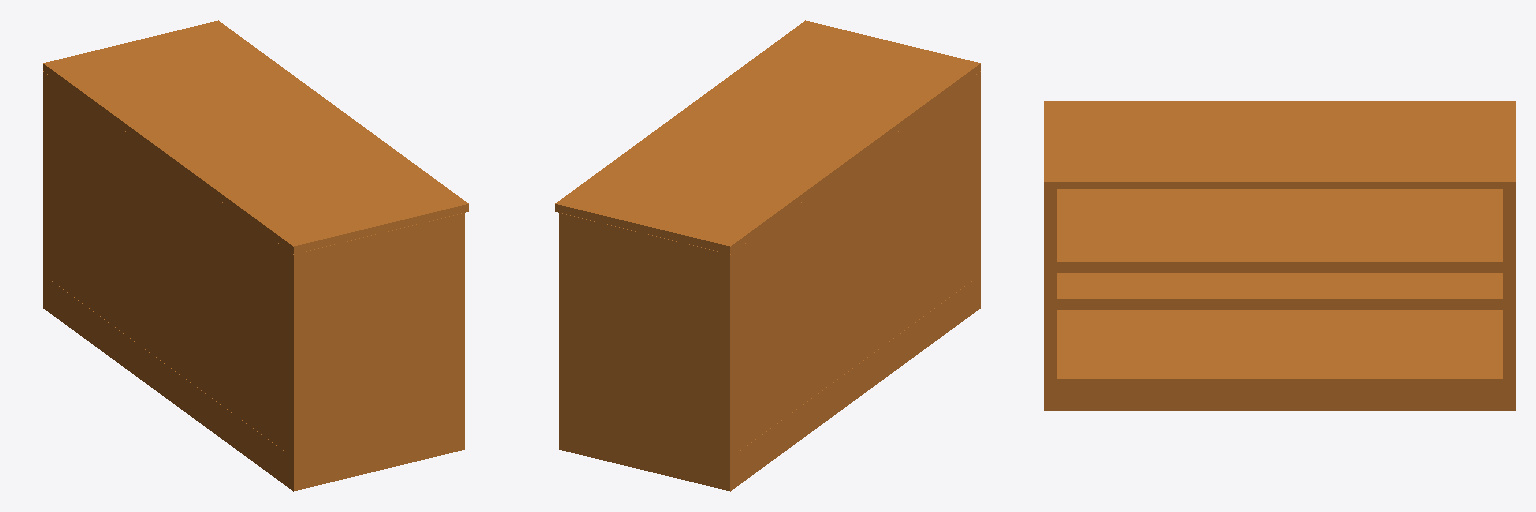
URDF robot description (room610-audio_shelf-1-robot):
<?xml version="1.0"?>
<robot name="room610-audio_shelf-1-robot"
       xmlns:xi="http://www.w3.org/2001/XInclude"
       >
  <gazebo>
    <static>false</static>
  </gazebo>
  <link name="ROOT_link">
    <visual>
      <origin xyz="0 0 0" rpy="0 -0 0"/>
      <geometry>
        <mesh filename="model://room610-audio_shelf-1/meshes/ROOT_link_mesh.dae" scale="1 1 1" />
      </geometry>
    </visual>
    <collision>
      <origin xyz="0 0 0" rpy="0 -0 0"/>
      <geometry>
        <mesh filename="model://room610-audio_shelf-1/meshes/ROOT_link_mesh.dae" scale="1 1 1" />
      </geometry>
    </collision>
    <inertial>
      <mass value="0.001" />
      <origin xyz="0 0 0" rpy="0 -0 0"/>
      <inertia ixx="1e-03" ixy="0" ixz="0" iyy="1e-03" iyz="0" izz="1e-03"/>
    </inertial>
  </link>
  <gazebo reference="ROOT_link">
    <mu1>0.9</mu1>
    <mu2>0.9</mu2>
  </gazebo>
  <link name="AUDIO_SHELF-BODYSET2_link">
    <visual>
      <origin xyz="0.222 0.195 0.08" rpy="0 -0 0"/>
      <geometry>
        <mesh filename="model://room610-audio_shelf-1/meshes/AUDIO_SHELF-BODYSET2_link_mesh.dae" scale="1 1 1" />
      </geometry>
    </visual>
    <collision>
      <origin xyz="0.222 0.195 0.08" rpy="0 -0 0"/>
      <geometry>
        <mesh filename="model://room610-audio_shelf-1/meshes/AUDIO_SHELF-BODYSET2_link_mesh.dae" scale="1 1 1" />
      </geometry>
    </collision>
    <inertial>
      <mass value="0.001" />
      <origin xyz="0 0 0" rpy="0 -0 0"/>
      <inertia ixx="1e-03" ixy="0" ixz="0" iyy="1e-03" iyz="0" izz="1e-03"/>
    </inertial>
  </link>
  <gazebo reference="AUDIO_SHELF-BODYSET2_link">
    <mu1>0.9</mu1>
    <mu2>0.9</mu2>
  </gazebo>
  <link name="AUDIO_SHELF-BODYSET3_link">
    <visual>
      <origin xyz="0.222 -0.565 0.08" rpy="0 -0 0"/>
      <geometry>
        <mesh filename="model://room610-audio_shelf-1/meshes/AUDIO_SHELF-BODYSET3_link_mesh.dae" scale="1 1 1" />
      </geometry>
    </visual>
    <collision>
      <origin xyz="0.222 -0.565 0.08" rpy="0 -0 0"/>
      <geometry>
        <mesh filename="model://room610-audio_shelf-1/meshes/AUDIO_SHELF-BODYSET3_link_mesh.dae" scale="1 1 1" />
      </geometry>
    </collision>
    <inertial>
      <mass value="0.001" />
      <origin xyz="0 0 0" rpy="0 -0 0"/>
      <inertia ixx="1e-03" ixy="0" ixz="0" iyy="1e-03" iyz="0" izz="1e-03"/>
    </inertial>
  </link>
  <gazebo reference="AUDIO_SHELF-BODYSET3_link">
    <mu1>0.9</mu1>
    <mu2>0.9</mu2>
  </gazebo>
  <link name="AUDIO_SHELF-BODYSET6_link">
    <visual>
      <origin xyz="0 0.39 0.18" rpy="0 -0 0"/>
      <geometry>
        <mesh filename="model://room610-audio_shelf-1/meshes/AUDIO_SHELF-BODYSET6_link_mesh.dae" scale="1 1 1" />
      </geometry>
    </visual>
    <collision>
      <origin xyz="0 0.39 0.18" rpy="0 -0 0"/>
      <geometry>
        <mesh filename="model://room610-audio_shelf-1/meshes/AUDIO_SHELF-BODYSET6_link_mesh.dae" scale="1 1 1" />
      </geometry>
    </collision>
    <inertial>
      <mass value="0.001" />
      <origin xyz="0 0 0" rpy="0 -0 0"/>
      <inertia ixx="1e-03" ixy="0" ixz="0" iyy="1e-03" iyz="0" izz="1e-03"/>
    </inertial>
  </link>
  <gazebo reference="AUDIO_SHELF-BODYSET6_link">
    <mu1>0.9</mu1>
    <mu2>0.9</mu2>
  </gazebo>
  <link name="AUDIO_SHELF-BODYSET5_link">
    <visual>
      <origin xyz="0 0.39 0.37" rpy="0 -0 0"/>
      <geometry>
        <mesh filename="model://room610-audio_shelf-1/meshes/AUDIO_SHELF-BODYSET5_link_mesh.dae" scale="1 1 1" />
      </geometry>
    </visual>
    <collision>
      <origin xyz="0 0.39 0.37" rpy="0 -0 0"/>
      <geometry>
        <mesh filename="model://room610-audio_shelf-1/meshes/AUDIO_SHELF-BODYSET5_link_mesh.dae" scale="1 1 1" />
      </geometry>
    </collision>
    <inertial>
      <mass value="0.001" />
      <origin xyz="0 0 0" rpy="0 -0 0"/>
      <inertia ixx="1e-03" ixy="0" ixz="0" iyy="1e-03" iyz="0" izz="1e-03"/>
    </inertial>
  </link>
  <gazebo reference="AUDIO_SHELF-BODYSET5_link">
    <mu1>0.9</mu1>
    <mu2>0.9</mu2>
  </gazebo>
  <link name="AUDIO_SHELF-BODYSET4_link">
    <visual>
      <origin xyz="0 0.39 0.52" rpy="0 -0 0"/>
      <geometry>
        <mesh filename="model://room610-audio_shelf-1/meshes/AUDIO_SHELF-BODYSET4_link_mesh.dae" scale="1 1 1" />
      </geometry>
    </visual>
    <collision>
      <origin xyz="0 0.39 0.52" rpy="0 -0 0"/>
      <geometry>
        <mesh filename="model://room610-audio_shelf-1/meshes/AUDIO_SHELF-BODYSET4_link_mesh.dae" scale="1 1 1" />
      </geometry>
    </collision>
    <inertial>
      <mass value="0.001" />
      <origin xyz="0 0 0" rpy="0 -0 0"/>
      <inertia ixx="1e-03" ixy="0" ixz="0" iyy="1e-03" iyz="0" izz="1e-03"/>
    </inertial>
  </link>
  <gazebo reference="AUDIO_SHELF-BODYSET4_link">
    <mu1>0.9</mu1>
    <mu2>0.9</mu2>
  </gazebo>
  <joint name="DOOR-LEFT" type="revolute">
    <parent link="ROOT_link"/>
    <child  link="AUDIO_SHELF-BODYSET2_link"/>
    <origin xyz="0.222 0.195 0.08" rpy="0 -0 0 "/>
    <axis   xyz="0 0 1"/>
    <limit lower="0" upper="1.5708" effort="100" velocity="0.5" />
    <dynamics damping="0.2" friction="0" />
  </joint>
  <transmission type="pr2_mechanism_model/SimpleTransmission" name="DOOR-LEFT_trans" >
    <actuator name="DOOR-LEFT_motor" />
    <joint name="DOOR-LEFT" />
    <mechanicalReduction>1</mechanicalReduction>
  </transmission>
  <gazebo reference="DOOR-LEFT">
    <cfmDamping>0.4</cfmDamping>
  </gazebo>
  <joint name="DOOR-RIGHT" type="revolute">
    <parent link="ROOT_link"/>
    <child  link="AUDIO_SHELF-BODYSET3_link"/>
    <origin xyz="0.222 -0.565 0.08" rpy="0 -0 0 "/>
    <axis   xyz="0 0 -1"/>
    <limit lower="0" upper="1.5708" effort="100" velocity="0.5" />
    <dynamics damping="0.2" friction="0" />
  </joint>
  <transmission type="pr2_mechanism_model/SimpleTransmission" name="DOOR-RIGHT_trans" >
    <actuator name="DOOR-RIGHT_motor" />
    <joint name="DOOR-RIGHT" />
    <mechanicalReduction>1</mechanicalReduction>
  </transmission>
  <gazebo reference="DOOR-RIGHT">
    <cfmDamping>0.4</cfmDamping>
  </gazebo>
  <joint name="DRAWER1" type="prismatic">
    <parent link="ROOT_link"/>
    <child  link="AUDIO_SHELF-BODYSET6_link"/>
    <origin xyz="0 0.39 0.18" rpy="0 -0 0 "/>
    <axis   xyz="1 0 0"/>
    <limit lower="0" upper="0.465" effort="100" velocity="0.01" />
    <dynamics damping="0.2" friction="0" />
  </joint>
  <transmission type="pr2_mechanism_model/SimpleTransmission" name="DRAWER1_trans" >
    <actuator name="DRAWER1_motor" />
    <joint name="DRAWER1" />
    <mechanicalReduction>1</mechanicalReduction>
  </transmission>
  <gazebo reference="DRAWER1">
    <cfmDamping>0.4</cfmDamping>
  </gazebo>
  <joint name="DRAWER2" type="prismatic">
    <parent link="ROOT_link"/>
    <child  link="AUDIO_SHELF-BODYSET5_link"/>
    <origin xyz="0 0.39 0.37" rpy="0 -0 0 "/>
    <axis   xyz="1 0 0"/>
    <limit lower="0" upper="0.465" effort="100" velocity="0.01" />
    <dynamics damping="0.2" friction="0" />
  </joint>
  <transmission type="pr2_mechanism_model/SimpleTransmission" name="DRAWER2_trans" >
    <actuator name="DRAWER2_motor" />
    <joint name="DRAWER2" />
    <mechanicalReduction>1</mechanicalReduction>
  </transmission>
  <gazebo reference="DRAWER2">
    <cfmDamping>0.4</cfmDamping>
  </gazebo>
  <joint name="DRAWER3" type="prismatic">
    <parent link="ROOT_link"/>
    <child  link="AUDIO_SHELF-BODYSET4_link"/>
    <origin xyz="0 0.39 0.52" rpy="0 -0 0 "/>
    <axis   xyz="1 0 0"/>
    <limit lower="0" upper="0.465" effort="100" velocity="0.01" />
    <dynamics damping="0.2" friction="0" />
  </joint>
  <transmission type="pr2_mechanism_model/SimpleTransmission" name="DRAWER3_trans" >
    <actuator name="DRAWER3_motor" />
    <joint name="DRAWER3" />
    <mechanicalReduction>1</mechanicalReduction>
  </transmission>
  <gazebo reference="DRAWER3">
    <cfmDamping>0.4</cfmDamping>
  </gazebo>
</robot>

--- What the picture shows (computed from the rendered views, not written in the file) ---
3 views of the same robot in one strip: view 1: azimuth 30°, elevation 25°; view 2: azimuth 150°, elevation 25°; view 3: azimuth 270°, elevation 25° (orthographic).
Robot: room610-audio_shelf-1-robot — 6 links, 5 joints (2 revolute, 3 prismatic); root link ROOT_link; default pose: every joint at zero.
Visible links, largest first — view 1: ROOT_link; view 2: ROOT_link; view 3: ROOT_link.
Link boxes in pixels (x1,y1,x2,y2): ROOT_link: (43,20,468,491); ROOT_link: (555,20,980,491); ROOT_link: (1044,101,1515,410).
Bounding box of the posed robot: 0.465 × 1.15 × 0.6205 m (x, y, z).
Meshes: 6 distinct files referenced, 1 mesh visuals loaded (1 Collada DAE); not drawn: 5 (reference not matched to a file when rendering).